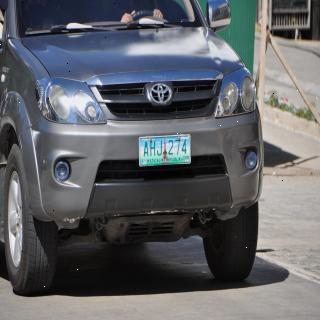license: (140, 136, 192, 168)
